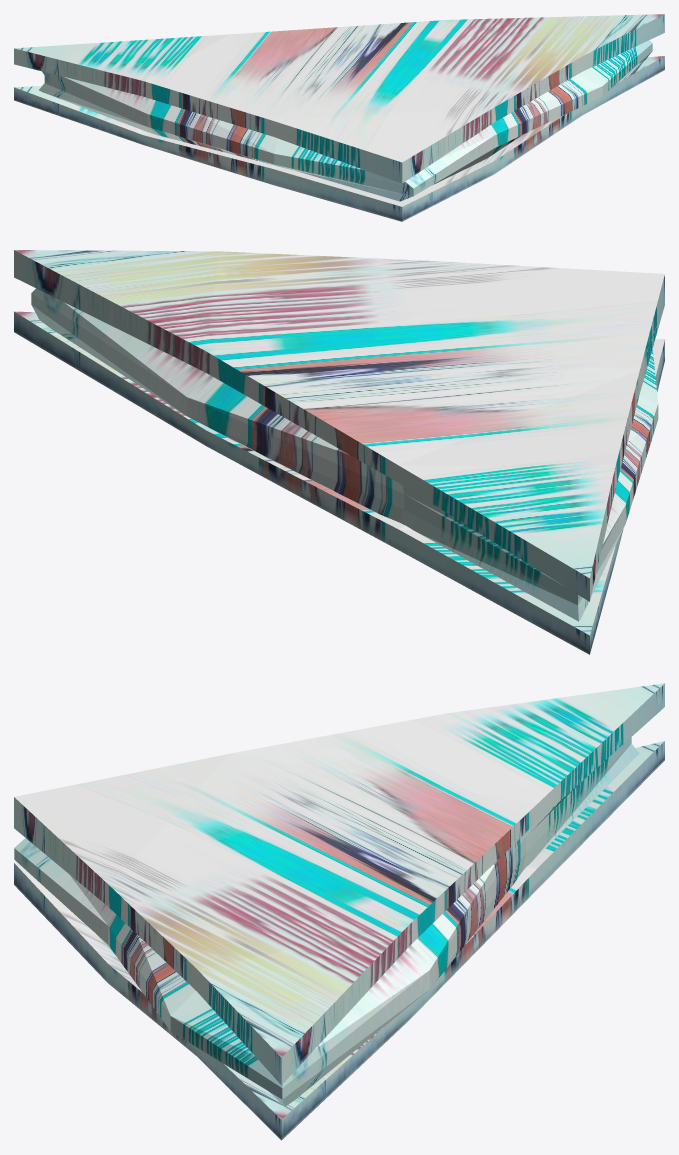
Rendered from sandwich.dae.
The picture shows the model from 3 angles, top to bottom: view 1: azimuth 30°, elevation 25°; view 2: azimuth 150°, elevation 25°; view 3: azimuth 270°, elevation 25°; orthographic projection. The views are drawn at different scales.
Parts seen in each view (by area): view 1: skp82B7 (×3); view 2: skp82B7 (×3); view 3: skp82B7 (×3).
Boxes of the visible parts, x1,y1,x2,y2 form: skp82B7 (×3): (14,14,664,221); skp82B7 (×3): (14,250,664,654); skp82B7 (×3): (14,683,664,1140).
Size of the model in its own units: 7.32 by 5.34 by 0.9011.
